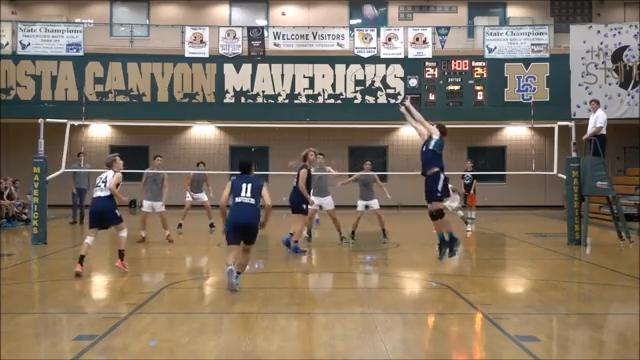alzata: (394, 91, 465, 264)
